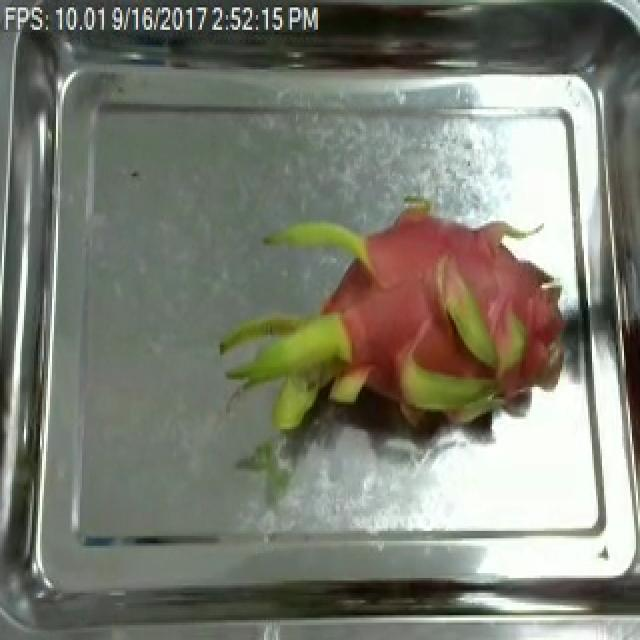fruit: (208, 159, 588, 496)
